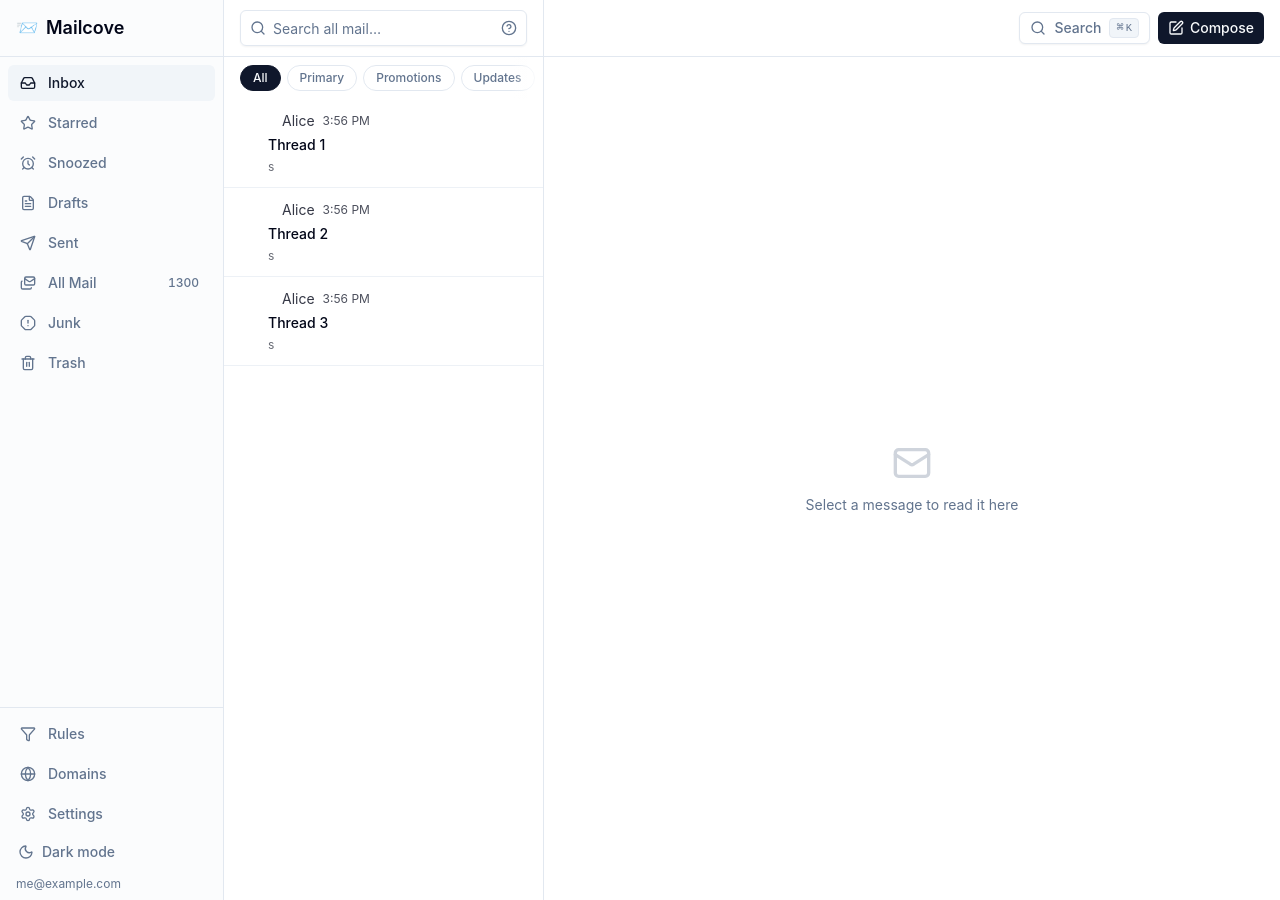
Test: select all in the app › offers the whole view once every loaded row is selected and more exist, with the count
Expected: the text "Thread 1" is shown, left=268, top=135, right=325, bottom=155
Press *
Press a
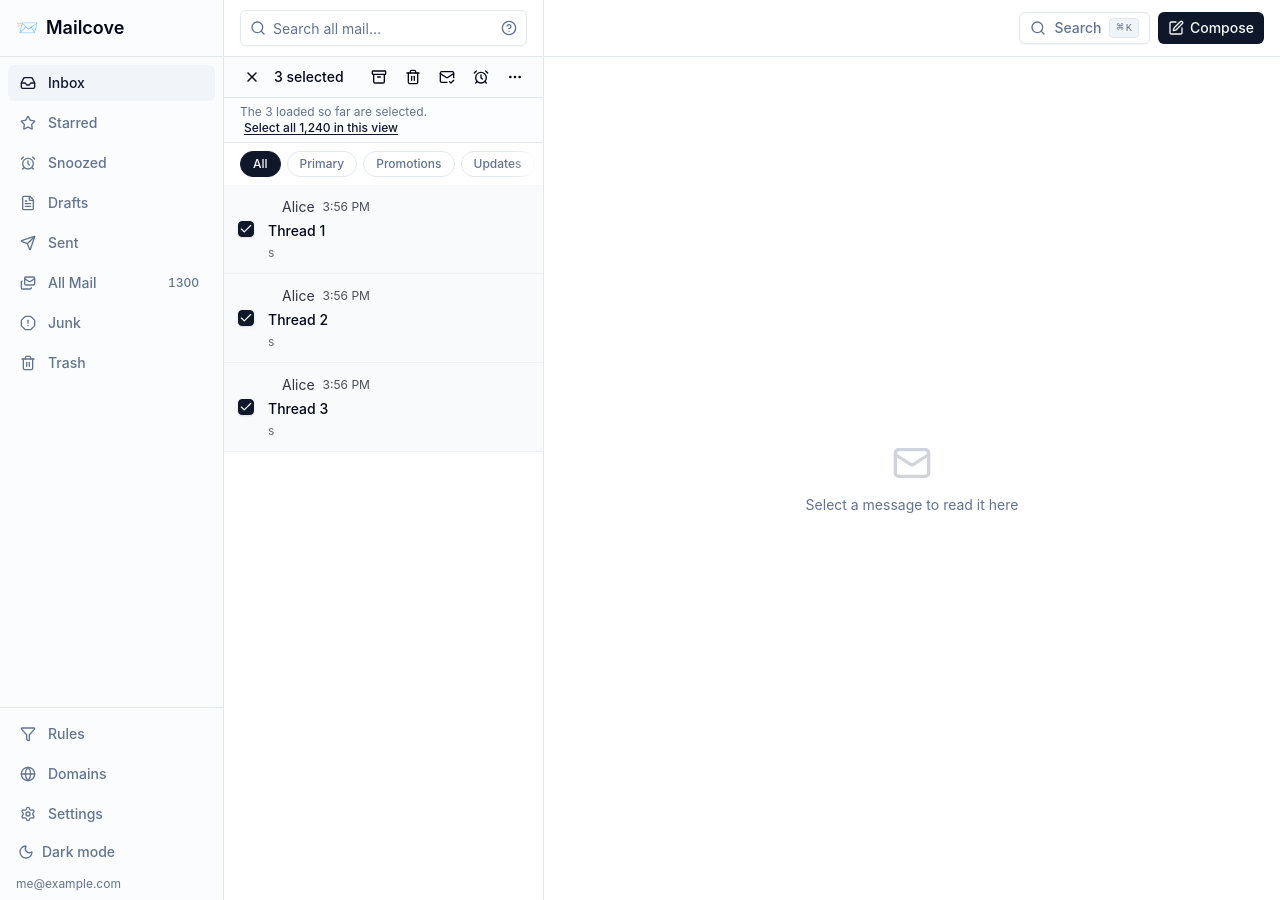
Expected: the text "3 selected" is shown, left=270, top=67, right=344, bottom=87
Expected: the text "The 3 loaded so far are selected." is shown, left=240, top=104, right=427, bottom=120
Click the button "Select all 1,240 in this view" at (321, 128), box left=240, top=120, right=402, bottom=136
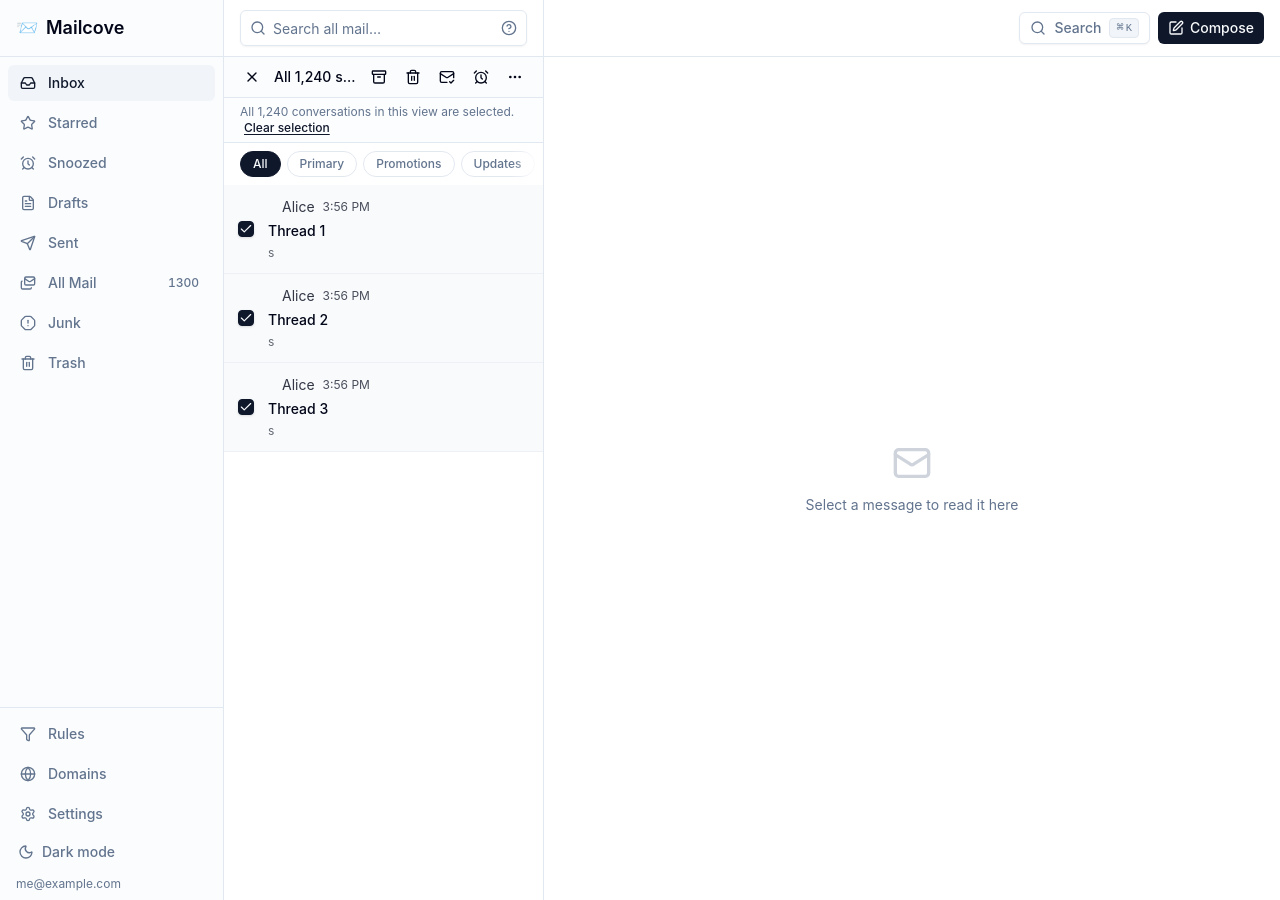
Expected: the text "All 1,240 selected" is shown, left=270, top=67, right=361, bottom=87
Expected: the text "All 1,240 conversations in this view are selected." is shown, left=240, top=104, right=514, bottom=120
